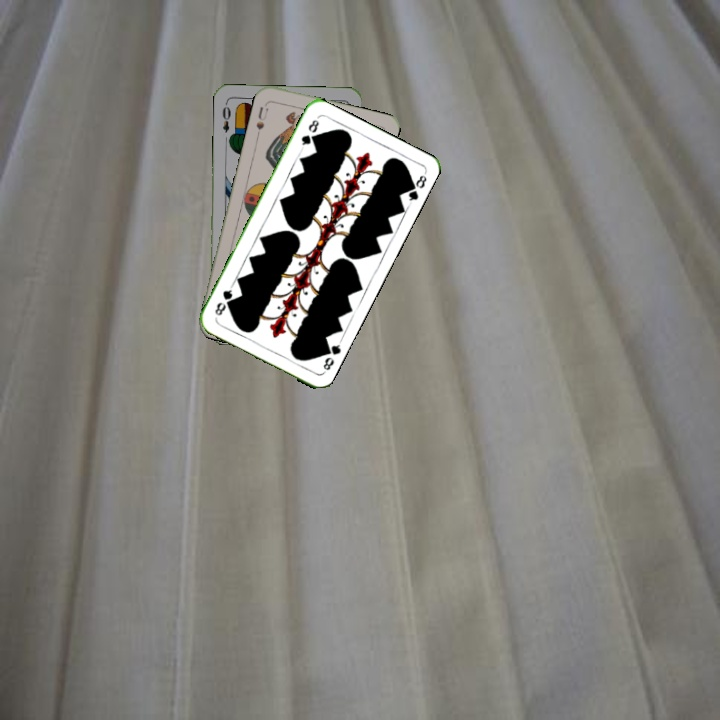EO: (218, 99, 233, 135)
G8: (318, 337, 344, 375), (297, 115, 322, 152)
SU: (252, 99, 271, 139)
